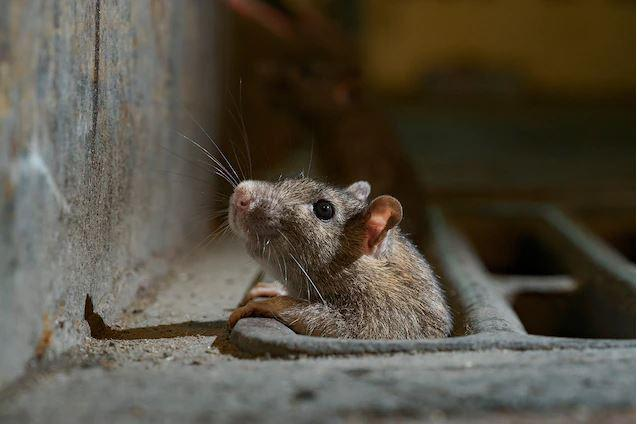rat: (227, 179, 454, 340)
